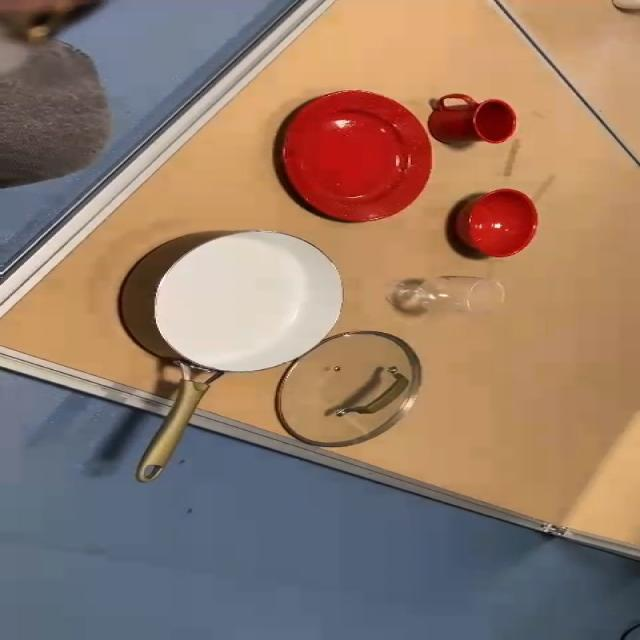Bowl: (442, 185, 540, 265)
Glass: (380, 277, 508, 315)
Plate: (282, 84, 425, 225)
cup: (427, 92, 518, 151)
pot: (120, 224, 342, 486)
